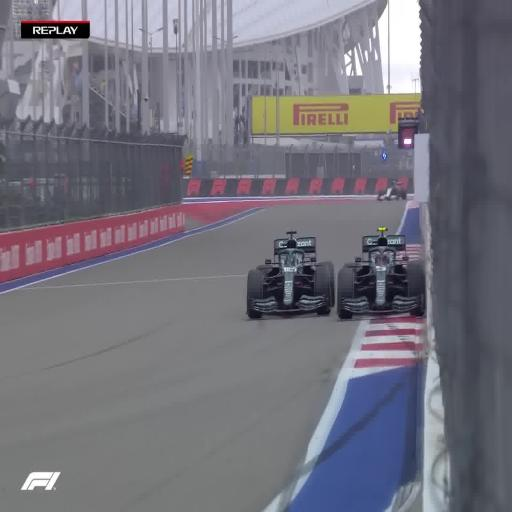f1_car: (337, 228, 425, 318), (246, 231, 335, 318), (377, 179, 407, 200)
